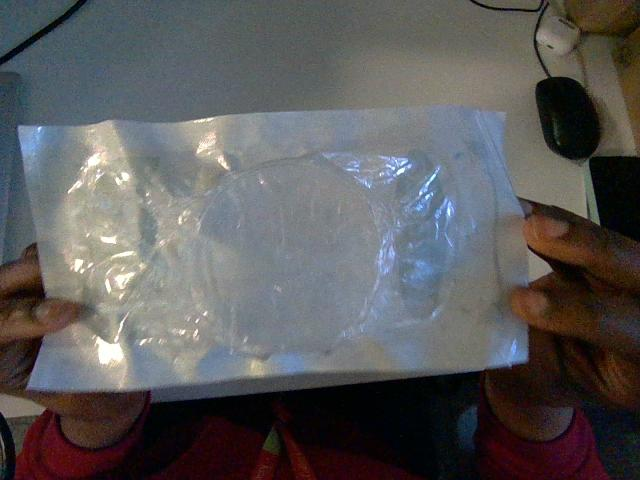gallipot: (20, 107, 525, 390)
